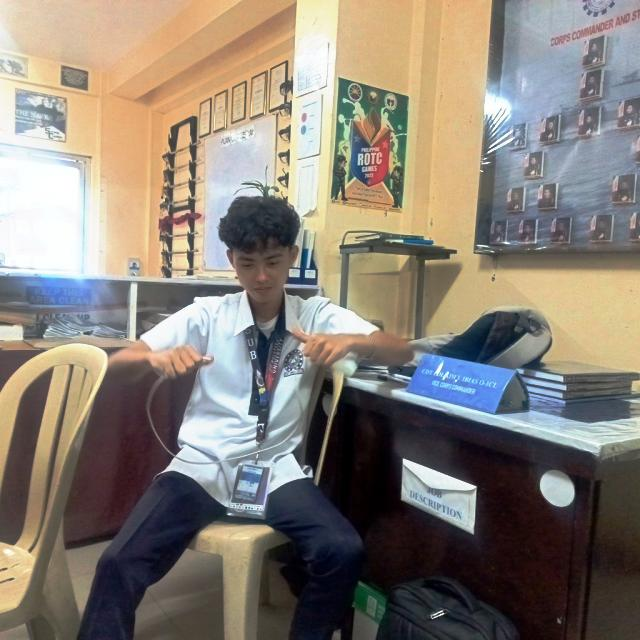other_gesture: (285, 319, 356, 370)
